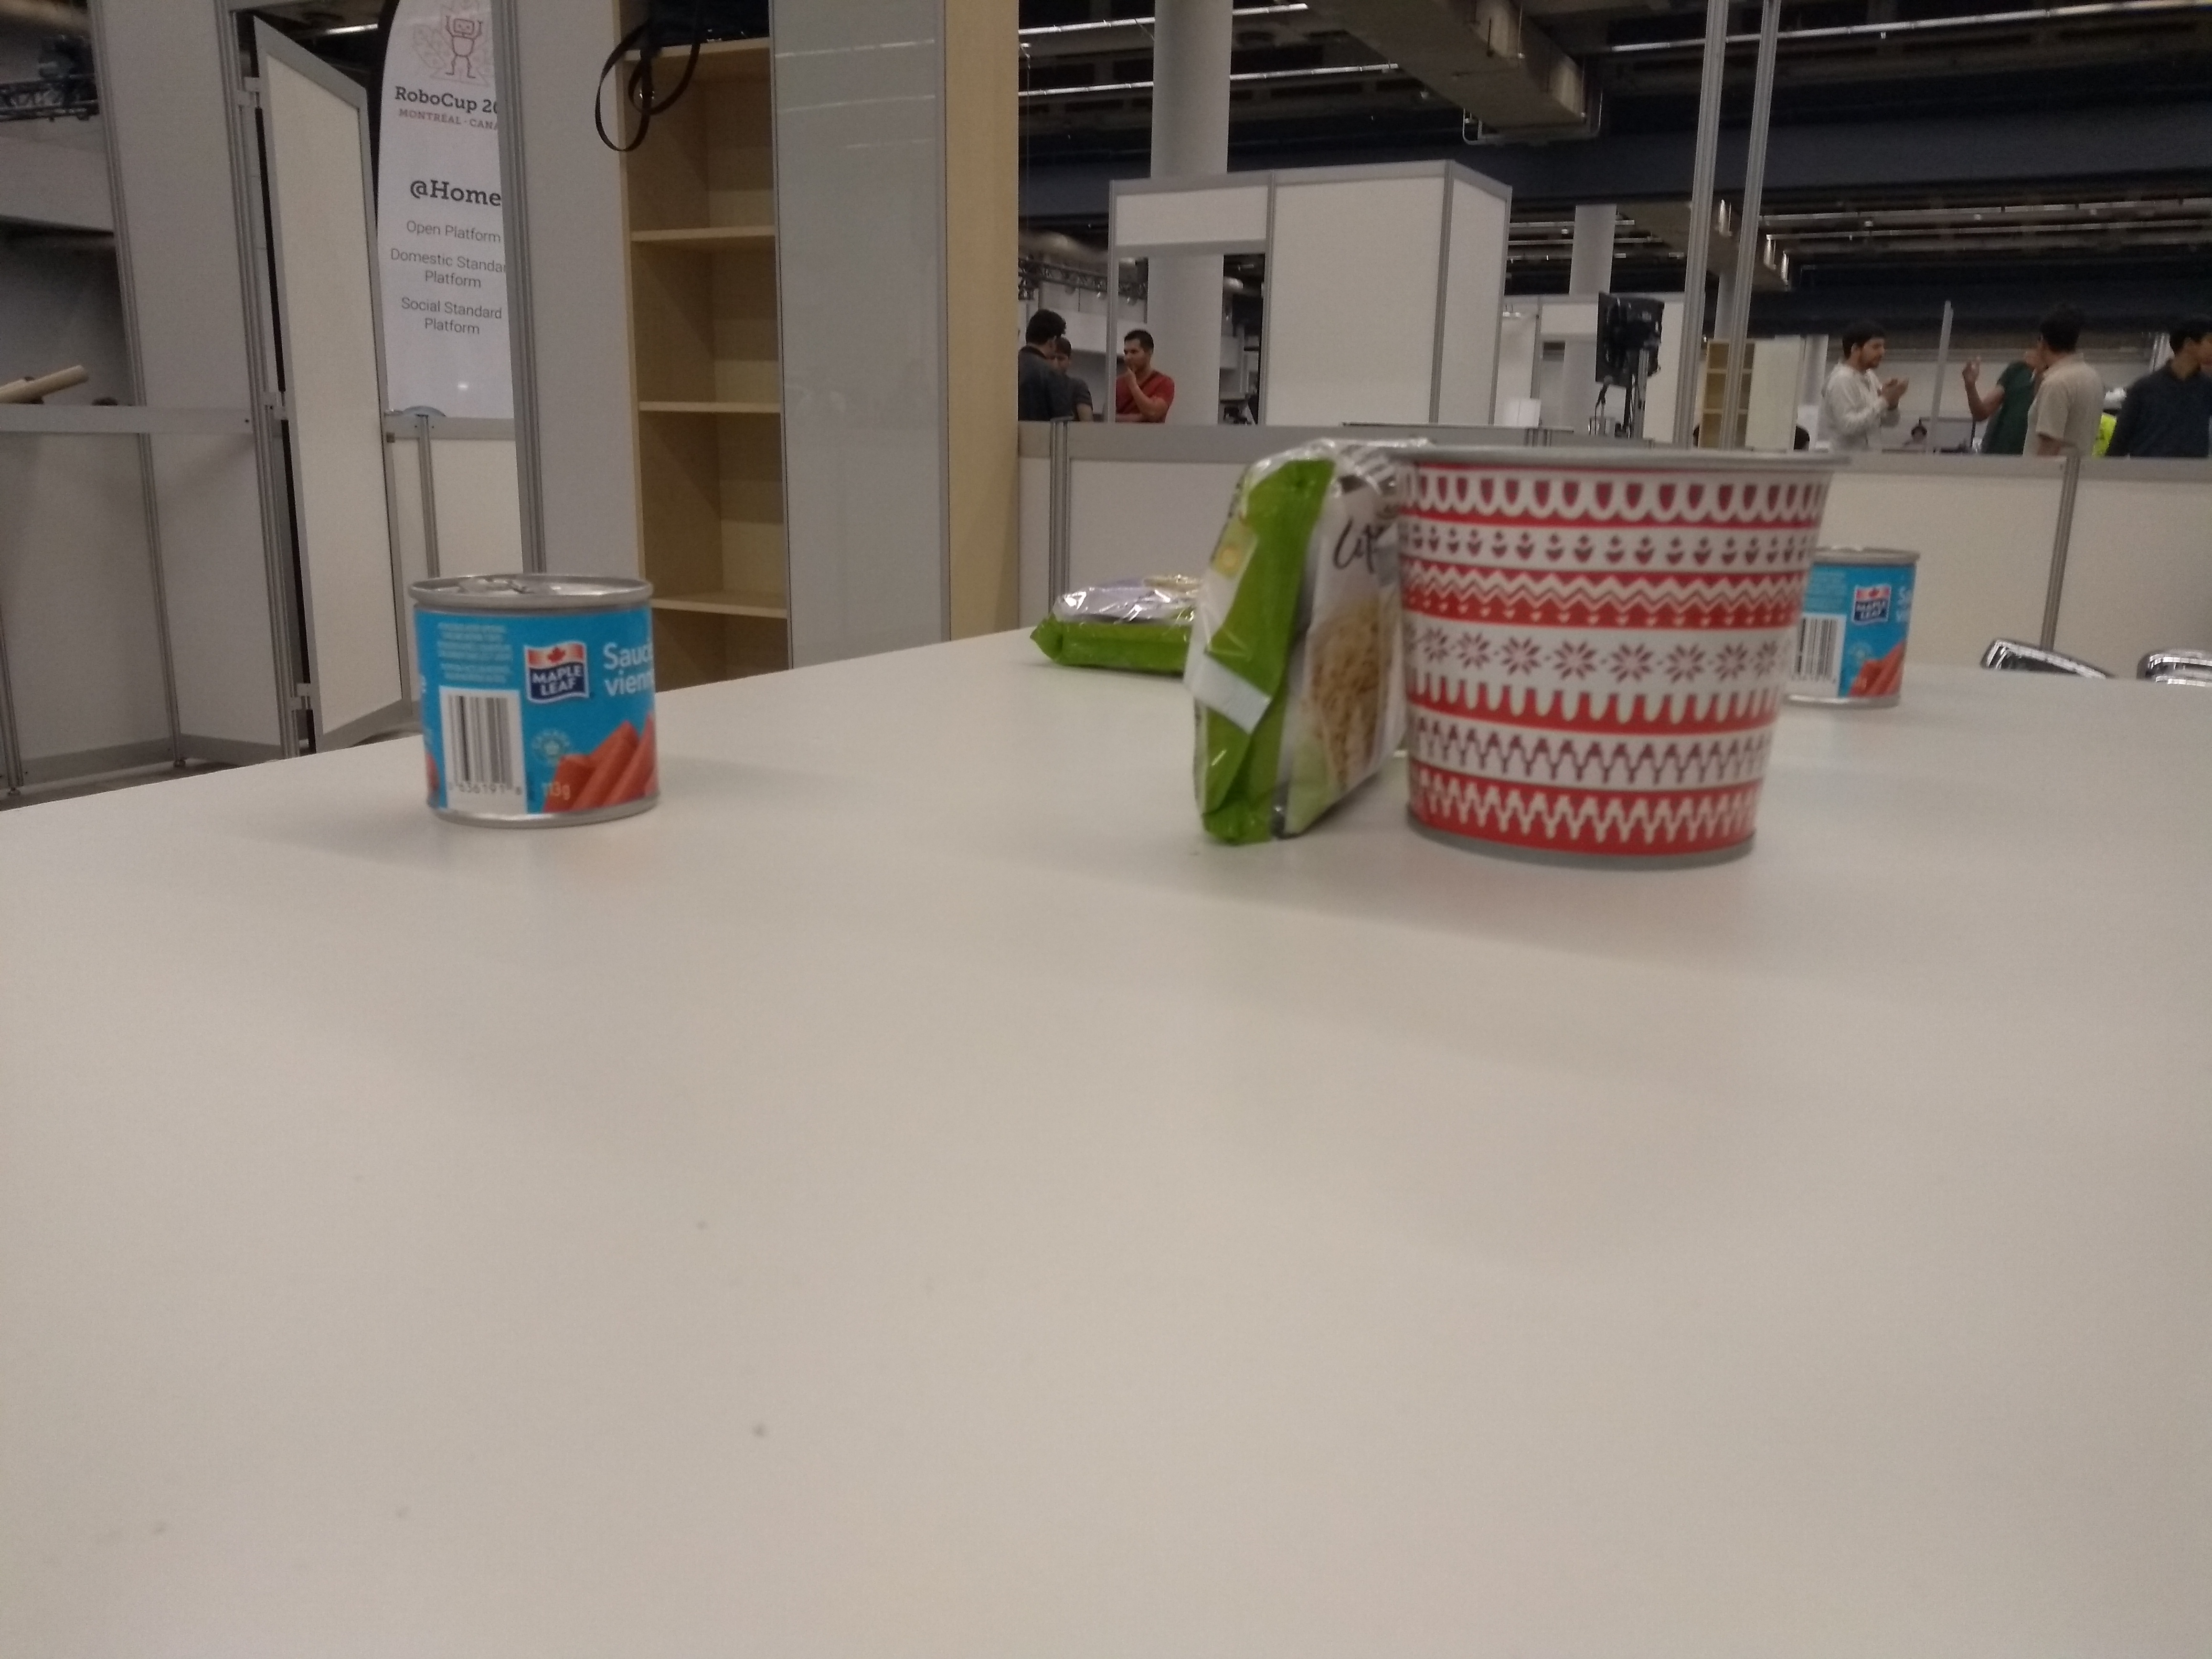sausages: (397, 552, 676, 836)
